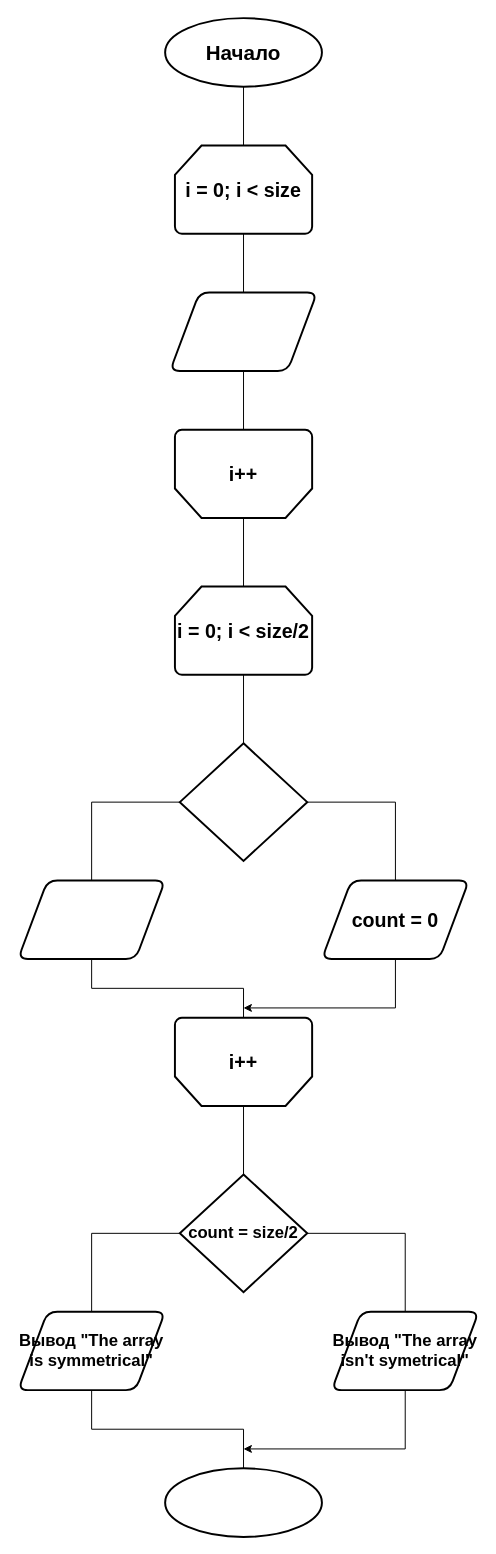
Image size: 496x1554. Some labels were removed from this diagram. The centre of each missing label's shape, as x and y in pixels:
"arr[i] == arr[6 -i]" goes at point 243,801.
"count++" goes at point 91,919.
"Ввод arr[i]" goes at point 243,331.
"Конец" goes at point 243,1502.
